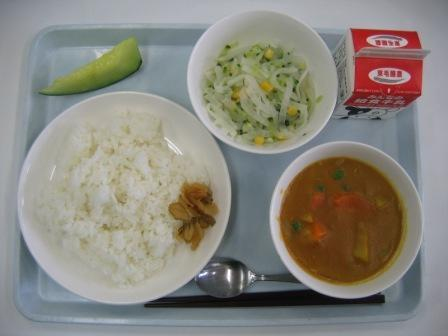Curry: (279, 152, 421, 291)
Milk: (326, 28, 430, 129)
Rice: (27, 117, 182, 279)
Salad: (195, 35, 319, 147)
melon: (35, 31, 163, 105)
vegetable based cooked food: (162, 181, 222, 244)
